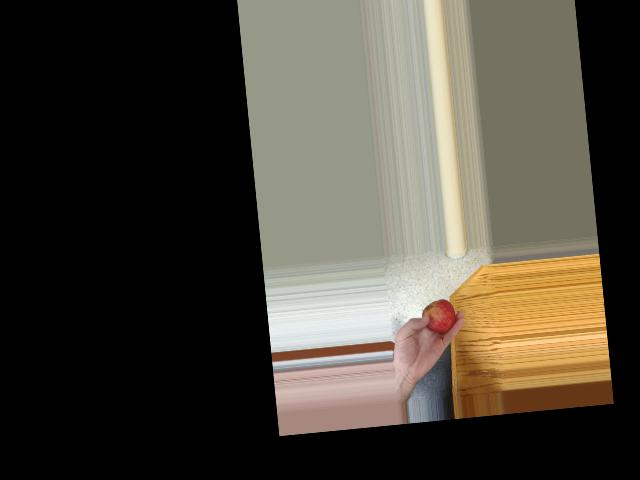apple: (421, 296, 458, 336)
